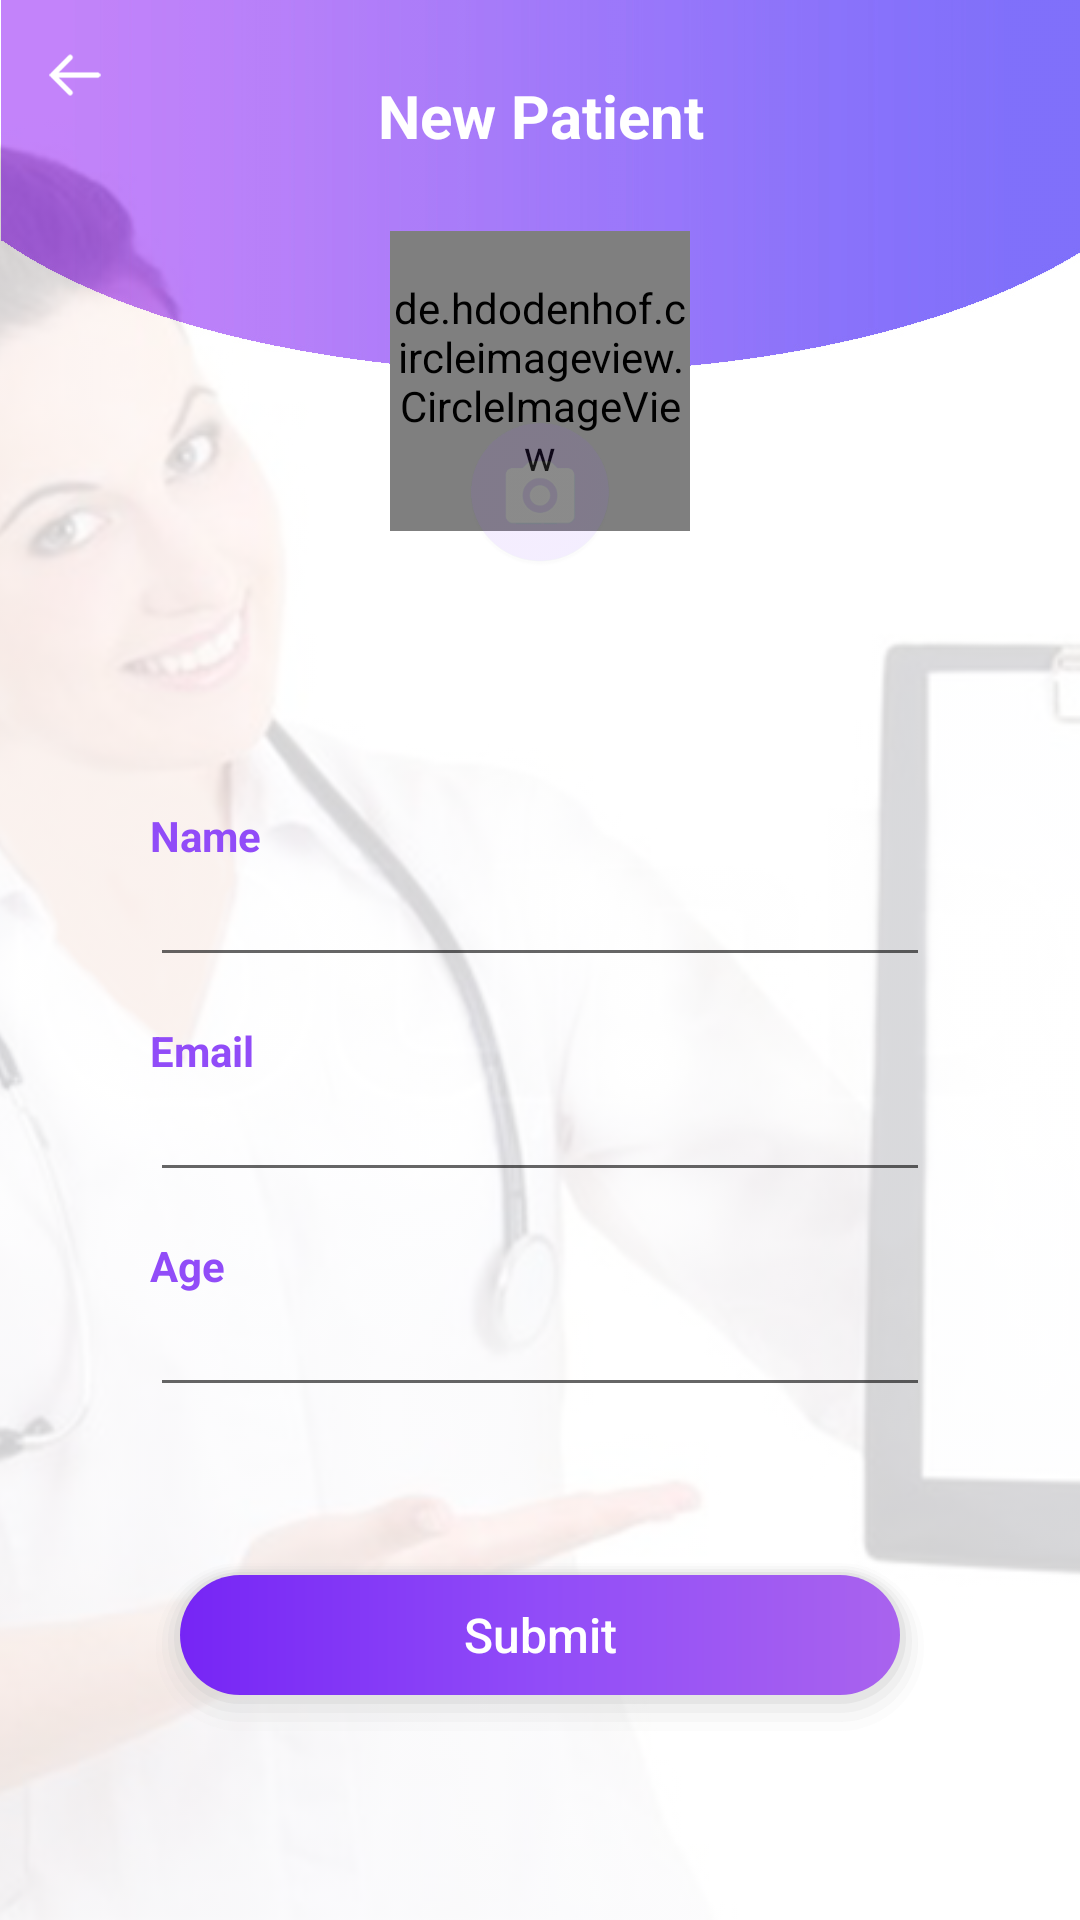

Screen size 1080 × 1920. Icon name, then its box in pixels as (x1, y1, x2, y2):
leftarrow: (49, 54, 101, 96)
